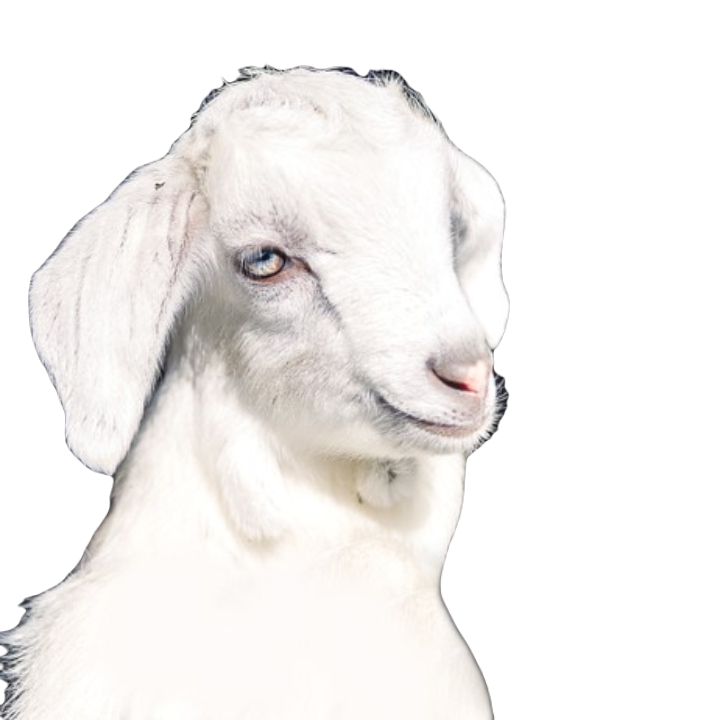Goat: (5, 70, 512, 715)
